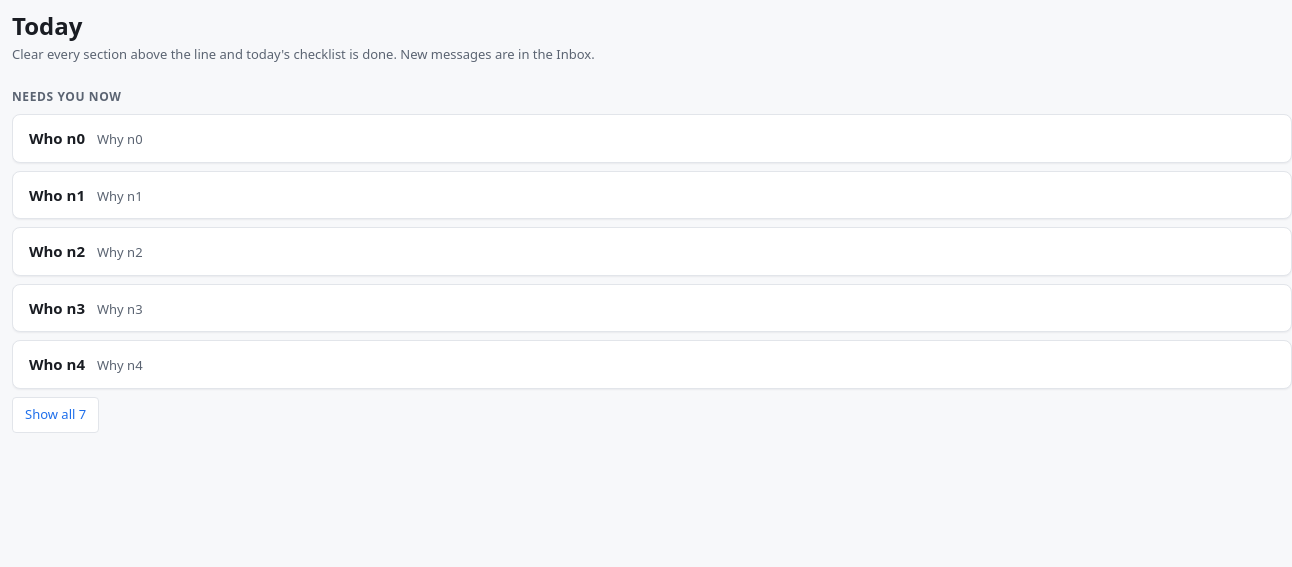
Test: Today - the checklist layout (spec 2026-10-23 2) › shows the first 5 rows of a section; Show all N expands it in place and Show fewer folds it
Check: the number of list items is 5, box [12,114,1291,163]; [12,171,1291,219]; [12,227,1291,276]; [12,284,1291,332]; [12,340,1291,389]
Check: the heading "Needs you now" is shown, box [12,88,121,105]
Click the button "Show all 7" at (56,415), box [12,397,99,433]
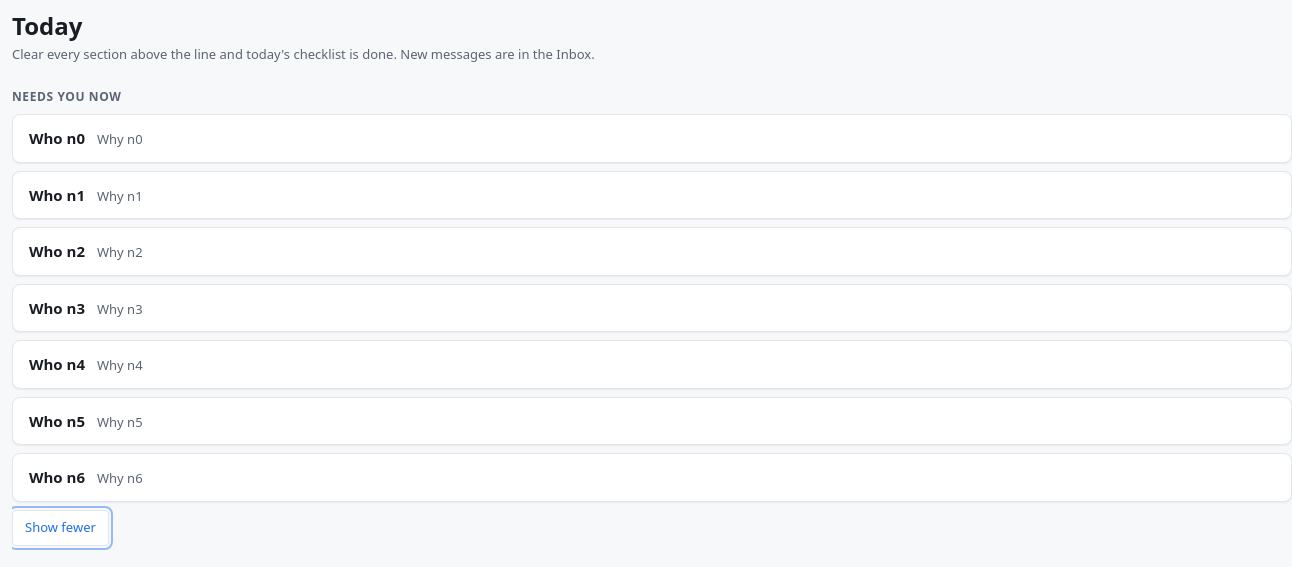
Check: the number of list items is 7
Check: the button named "Show all 7" is expanded
Click the button named "Show all 7" at (60,528), box [12,510,109,546]
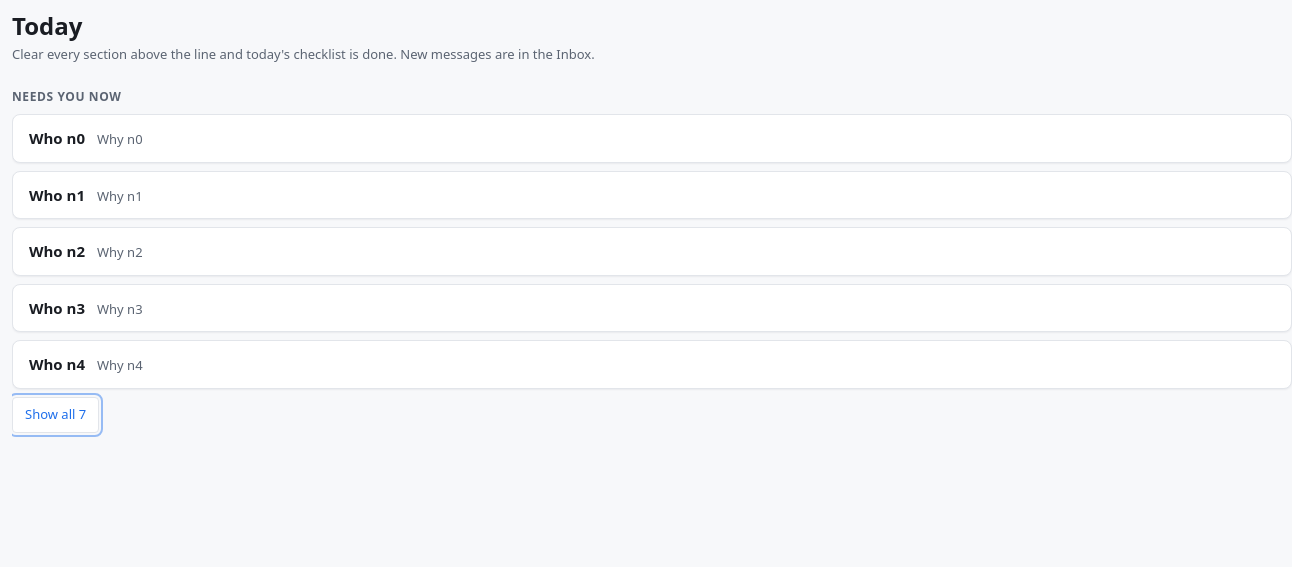
Check: the number of list items is 5, box [12,114,1291,163]; [12,171,1291,219]; [12,227,1291,276]; [12,284,1291,332]; [12,340,1291,389]
